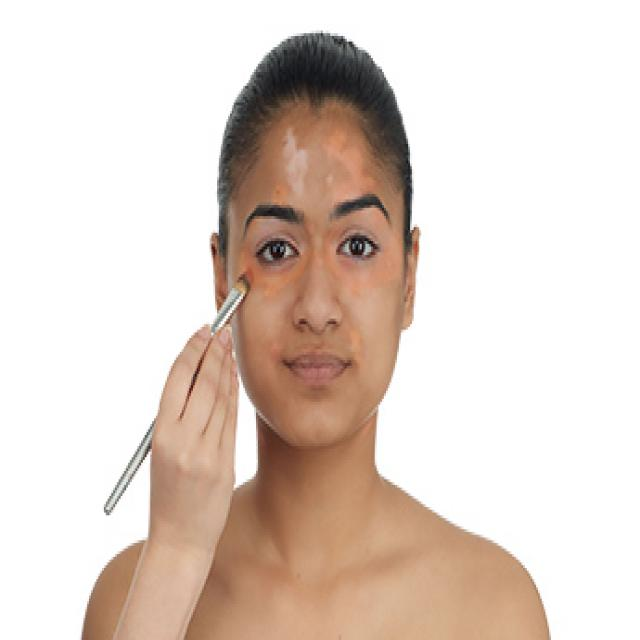vitiligo: (260, 128, 318, 213)
